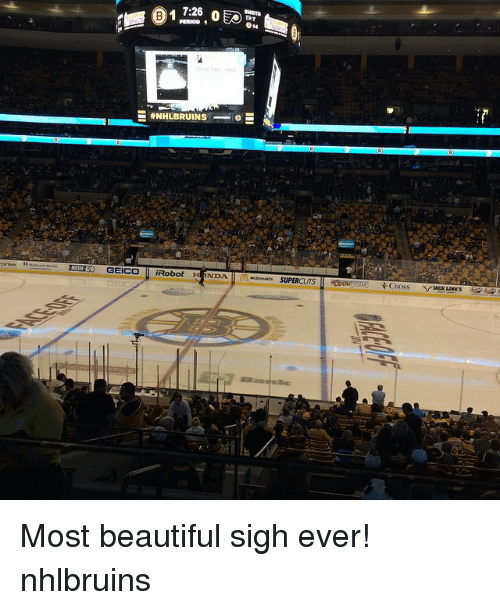Geico: (104, 261, 142, 277)
